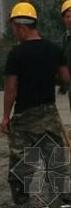gloves: (0, 148, 8, 166), (0, 86, 5, 102)
hard-hat: (0, 57, 15, 86)
